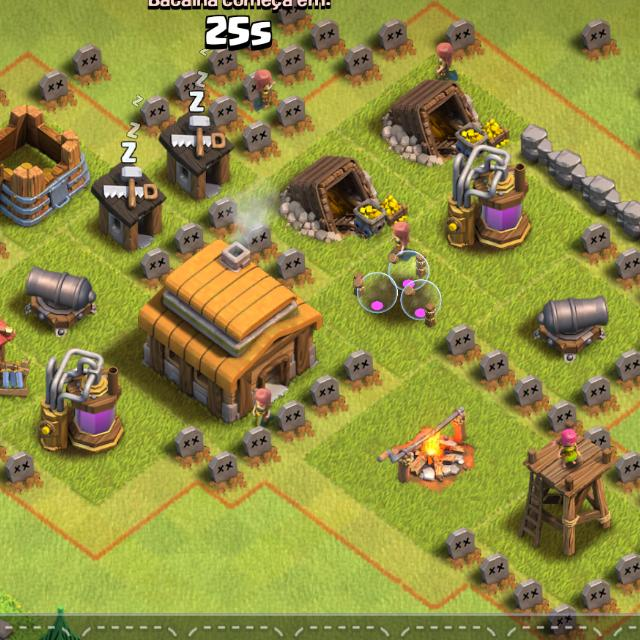Arqueira: (522, 426, 616, 554)
Canhao: (21, 258, 104, 336), (536, 286, 612, 362)
